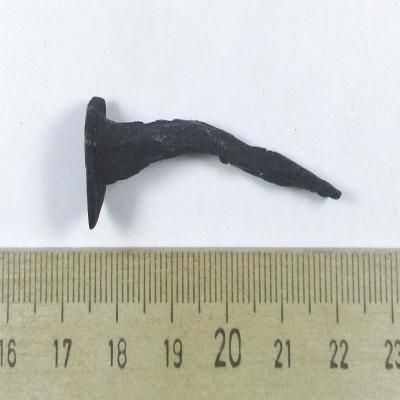archeology: (84, 97, 342, 230)
